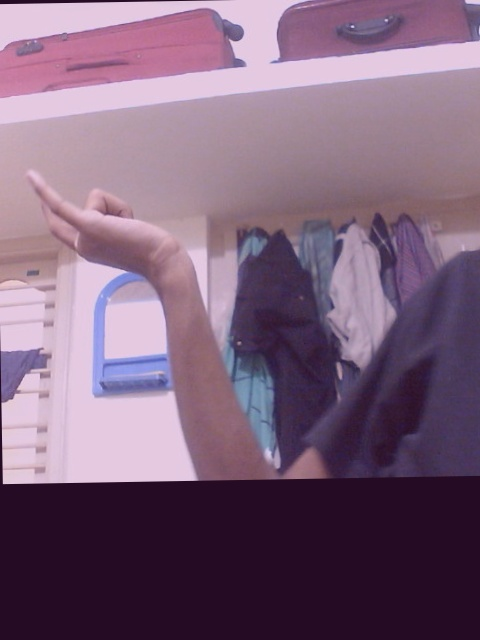hand: (23, 161, 189, 278)
